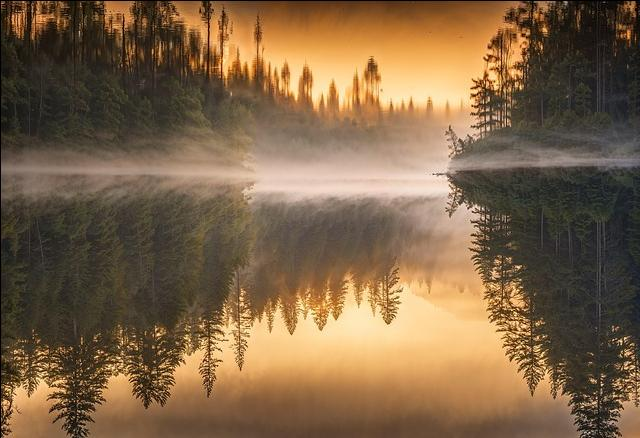Non_Gorille: (63, 41, 587, 379)
